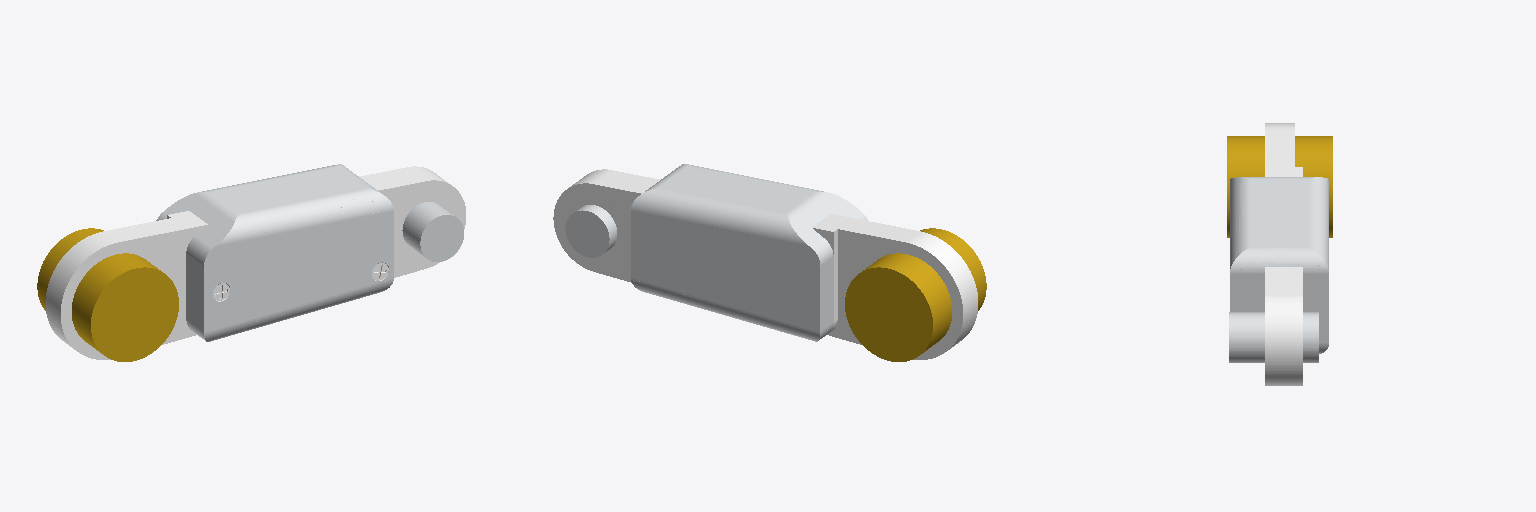
The model's file is finger_proximal.obj.
3 views of the same model, side by side, from view 1: azimuth 30°, elevation 25°; view 2: azimuth 150°, elevation 25°; view 3: azimuth 270°, elevation 25° (orthographic).
Visible parts, largest first — view 1: B4159; view 2: B4159; view 3: B4159.
Boxes of the visible parts, x1,y1,x2,y2 form: B4159: [37, 164, 465, 361]; B4159: [553, 164, 986, 361]; B4159: [1227, 123, 1332, 385].
Bounding box in the file's own units: 0.092 × 0.0264 × 0.021.